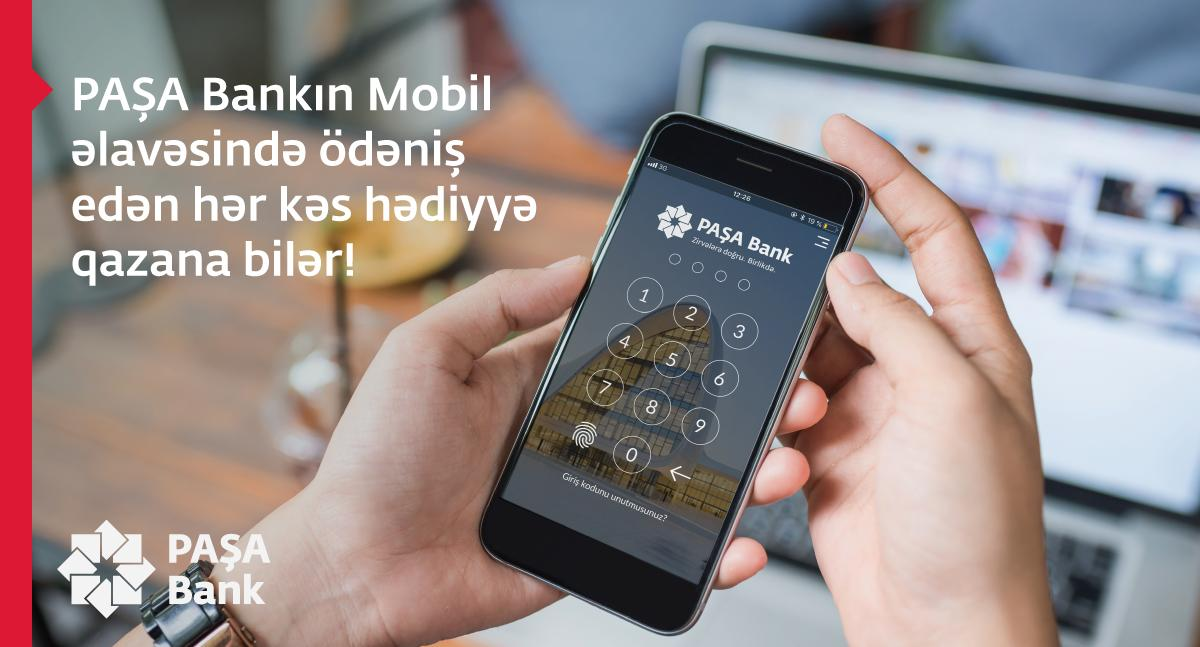Pasha Bank: (53, 517, 157, 621), (654, 202, 694, 239)
